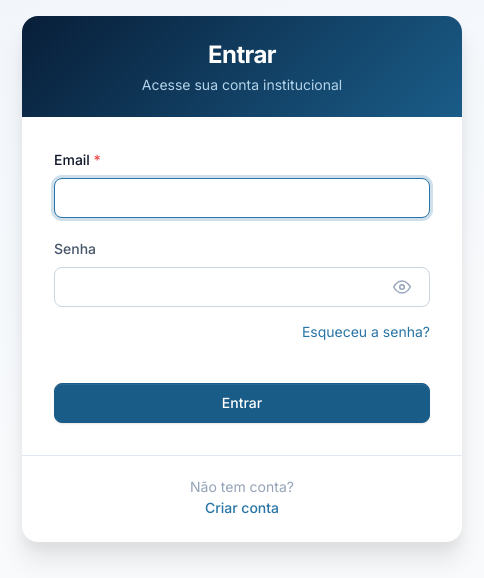
LoginPage › disables submit button while loading
This screenshot has width=484, height=578.
Type "a@b.com" into the field labelled "Email" at (242, 198), box [54,178,430,218]
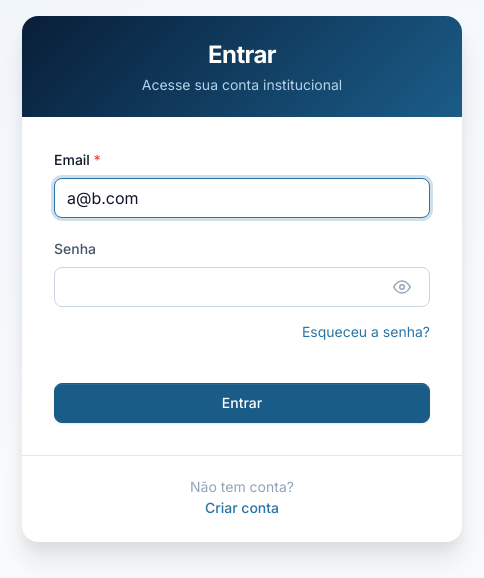
Type "x" into the password field labelled "Senha" at (242, 287), box [54,267,430,307]
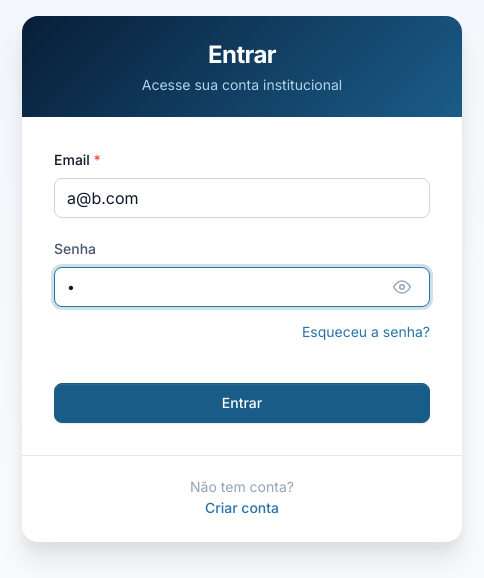
Click the button "Entrar" at (242, 403), box [54,383,430,423]
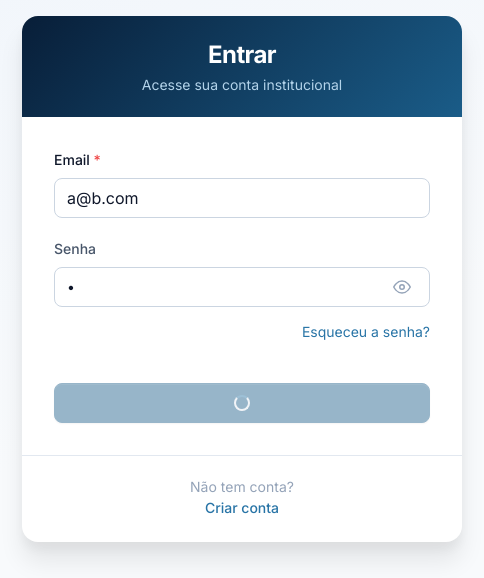
Now the button "Carregando..." is disabled, box [54,383,430,423]
